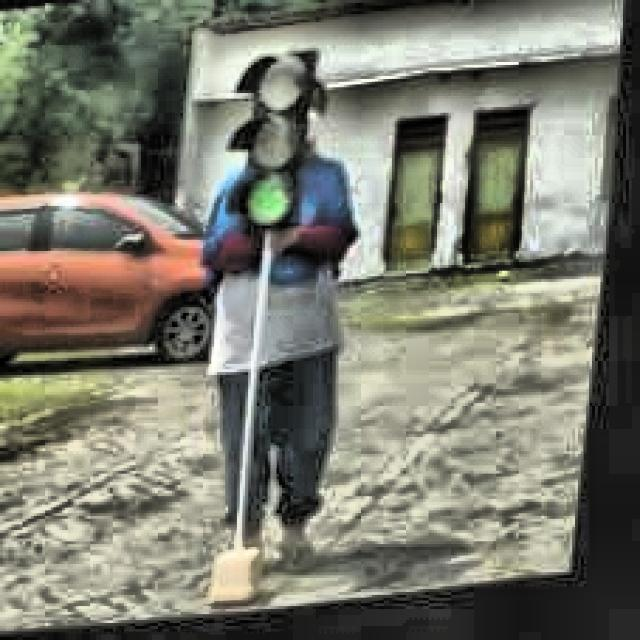green: (227, 52, 326, 241)
